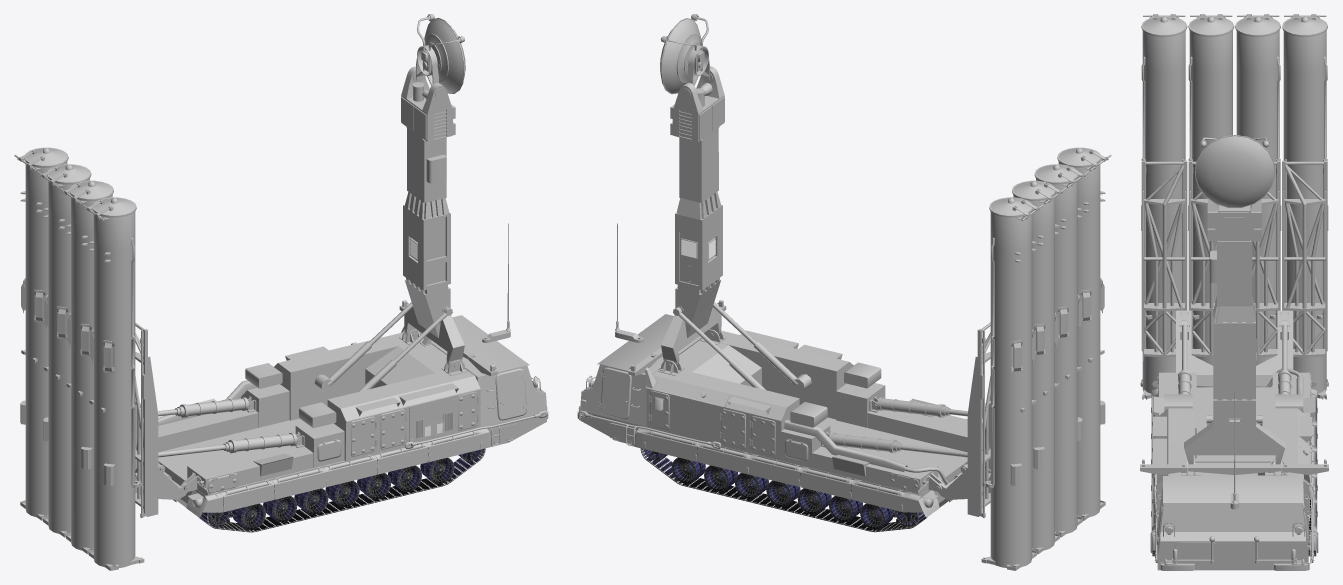
File: SA-12a-23a Gladiator TELAR.fbx
3 renders of one model, left to right at view 1: azimuth 30°, elevation 25°; view 2: azimuth 150°, elevation 25°; view 3: azimuth 270°, elevation 25°, orthographic. The views are drawn at different scales.
Visible parts, largest first — view 1: Telar_02, Telar_01, Telar_06, Telar_07, Radar, Telar_Tracs, Telar_03, Telar_04, Cap_004, Cap_01, Cap_003, Cap_002 (+7 smaller); view 2: Telar_01, Telar_02, Telar_06, Telar_07, Radar, Telar_Tracs, Telar_03, Telar_04, Cap_01, Cap_004, Cap_002, Cap_003 (+6 smaller); view 3: Telar_02, Telar_01, Telar_06, Telar_07, Radar, Cap_003, Cap_004, Cap_01, Cap_002, Telar_03.
Part boxes in pixels (x1,y1,x2,y2): Telar_02: (17,157,187,570); Telar_01: (140,223,548,517); Telar_06: (403,128,464,366); Telar_07: (413,14,465,99); Radar: (401,66,455,141); Telar_Tracs: (199,447,485,532); Telar_03: (175,397,300,453); Telar_04: (314,341,396,392); Cap_004: (82,197,136,220); Cap_01: (14,147,68,171); Cap_003: (60,180,113,204); Cap_002: (37,164,91,187); Telar_01: (577,223,985,517); Telar_02: (938,157,1108,570); Telar_06: (661,128,722,366); Telar_07: (660,14,712,99); Radar: (670,66,724,141); Telar_Tracs: (640,447,927,532); Telar_03: (829,397,950,453); Telar_04: (729,342,811,391); Cap_01: (989,197,1043,220); Cap_004: (1057,147,1111,171); Cap_002: (1012,180,1065,204); Cap_003: (1034,164,1088,187); Telar_02: (1140,15,1328,399); Telar_01: (1140,320,1328,570); Telar_06: (1184,240,1285,464); Telar_07: (1195,135,1275,207); Radar: (1207,198,1261,241); Cap_003: (1188,14,1234,37); Cap_004: (1141,14,1187,37); Cap_01: (1282,14,1327,37); Cap_002: (1235,14,1280,37); Telar_03: (1178,369,1291,394).
Bounding box in the file's own units: 7.45 × 6.65 × 2.58.
